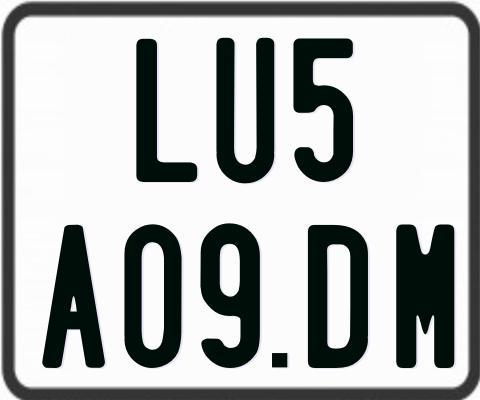0: (121, 223, 182, 371)
5: (291, 35, 356, 183)
9: (199, 223, 262, 369)
A: (42, 225, 105, 371)
D: (308, 223, 368, 372)
L: (136, 39, 202, 182)
M: (395, 221, 458, 366)
U: (214, 36, 277, 185)
